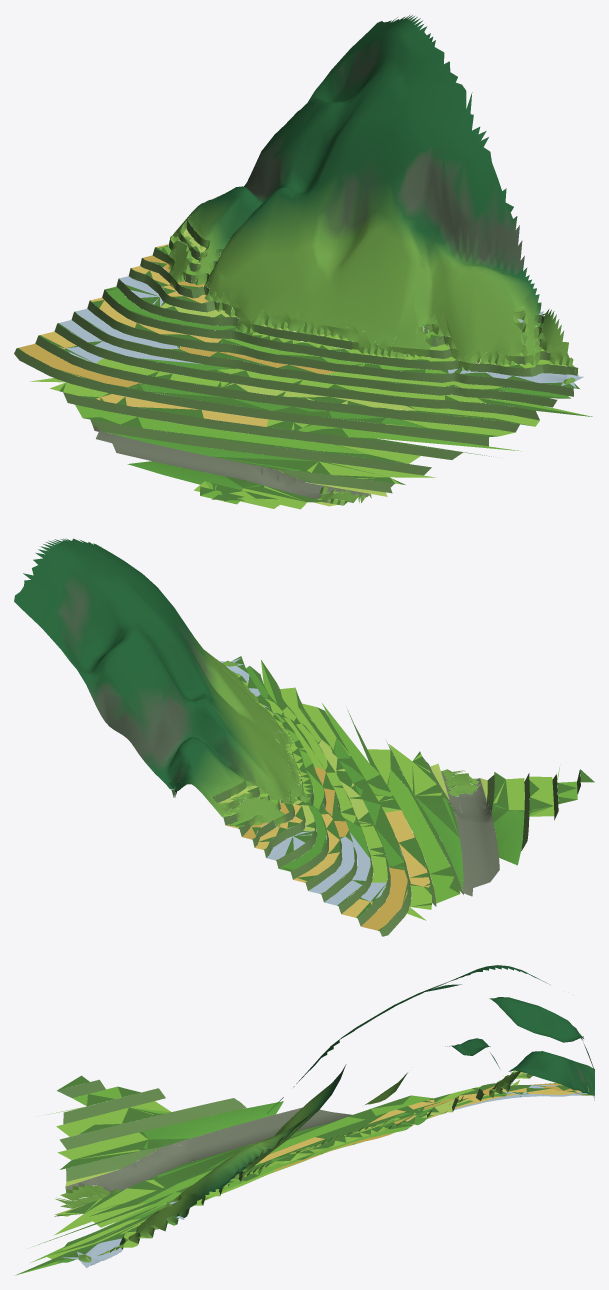
The model's file is payo_land_xm1_y3_lod1.glb.
The picture shows the model from 3 angles, top to bottom: view 1: azimuth 30°, elevation 25°; view 2: azimuth 150°, elevation 25°; view 3: azimuth 270°, elevation 25°; orthographic projection. The views are drawn at different scales.
Parts seen in each view (by area): view 1: payo_land_xm1_y3; view 2: payo_land_xm1_y3; view 3: payo_land_xm1_y3.
Boxes of the visible parts, box(x1,y1,x2,y2) form: payo_land_xm1_y3: box(14, 15, 592, 509); payo_land_xm1_y3: box(14, 538, 594, 936); payo_land_xm1_y3: box(15, 965, 594, 1275).
Size of the model in its own units: 271 by 203 by 280.
